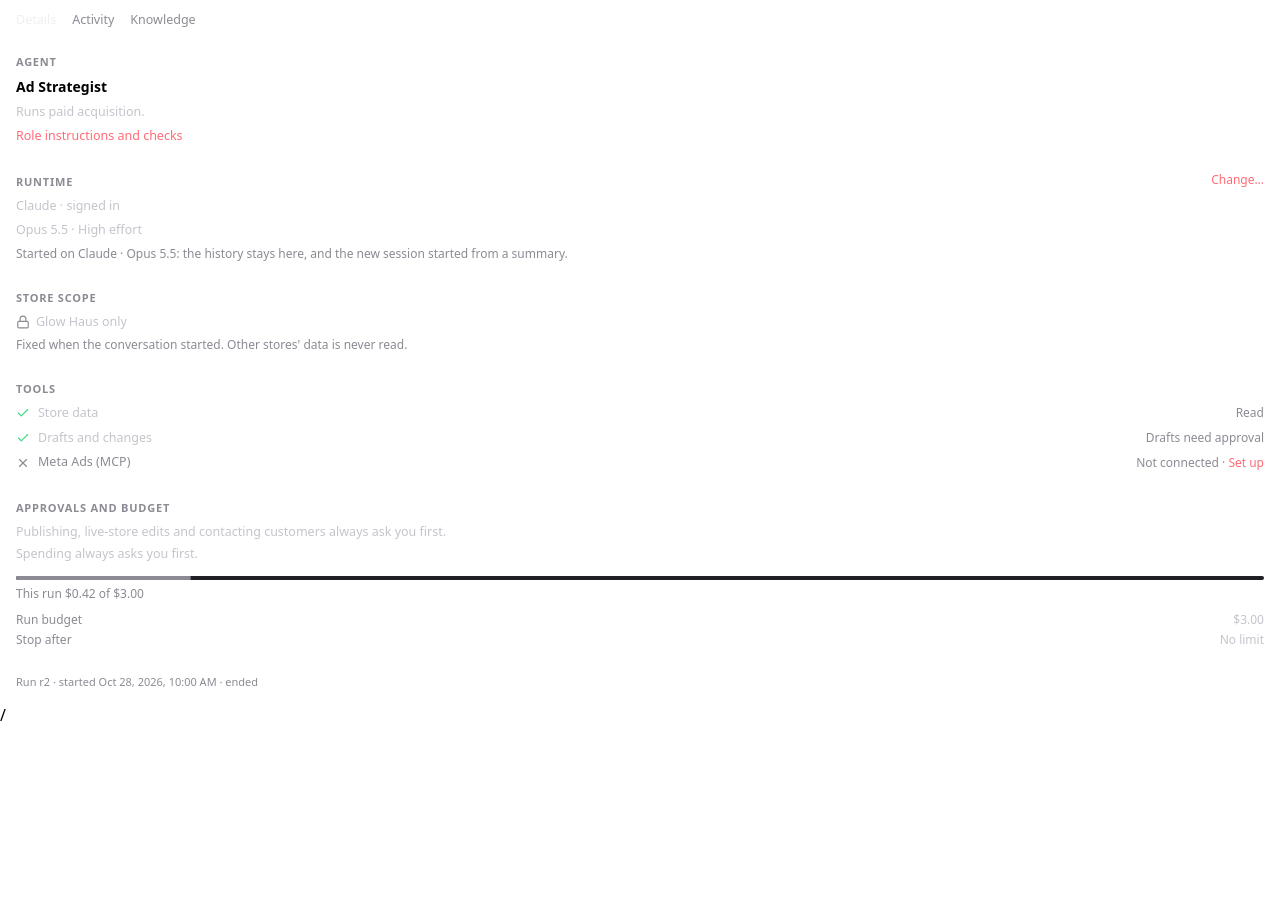
Test: 'Role instructions and checks' opens the type's contract
The width and height of the screenshot is (1280, 900).
What coordinates should you click on to do the following:
click the button "Role instructions and checks"
I would click on:
 (99, 137)
Its box is [16,127,183,146].
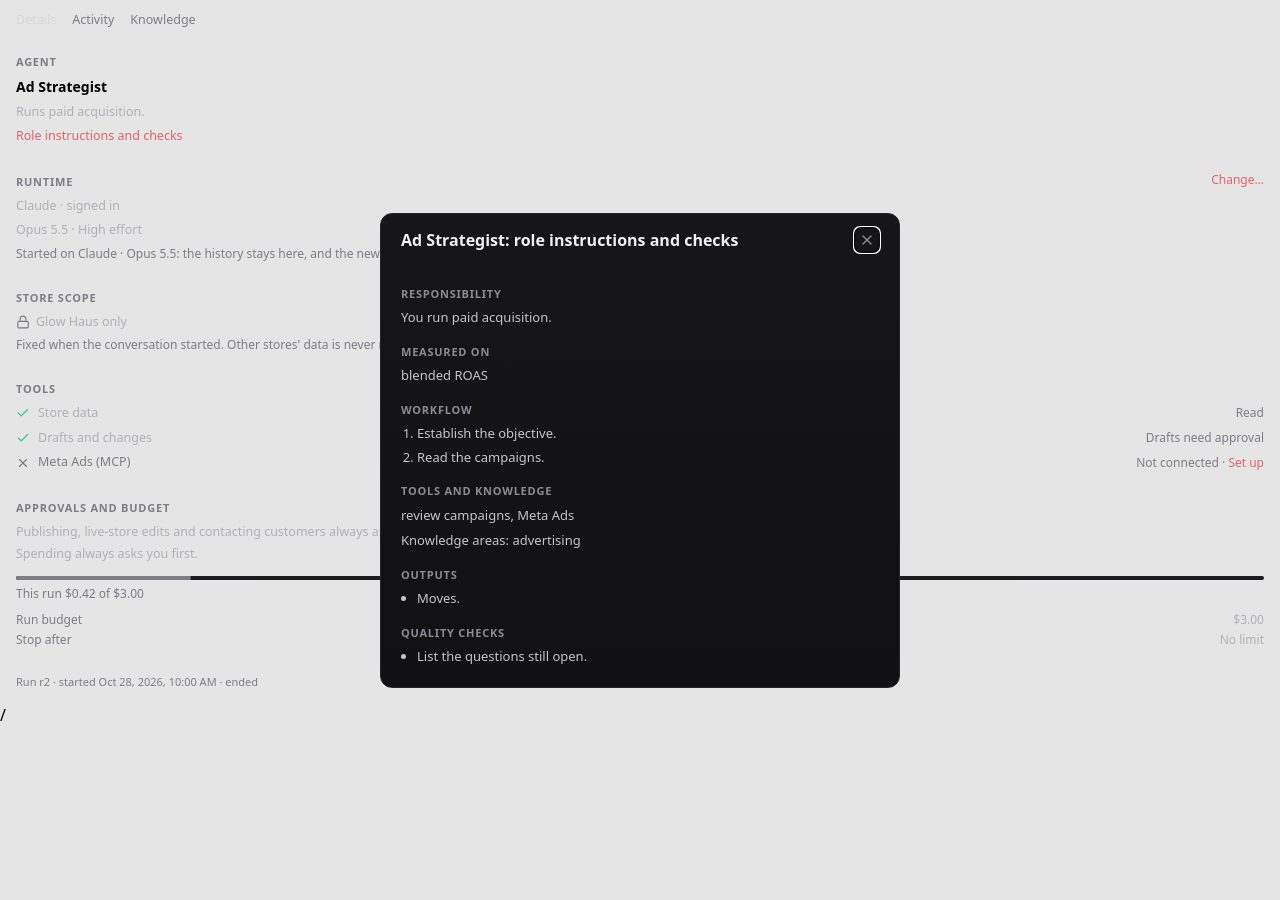
Expected: the list items read "Establish the objective.", "Read the campaigns.", "Moves.", "List the questions still open.", in this order, [417,424,556,442]; [417,448,545,466]; [417,589,460,607]; [417,647,587,665]
Expected: the text "review campaigns, Meta Ads" is shown, [401,506,574,524]
Expected: the text "Knowledge areas: advertising" is shown, [401,531,581,549]
